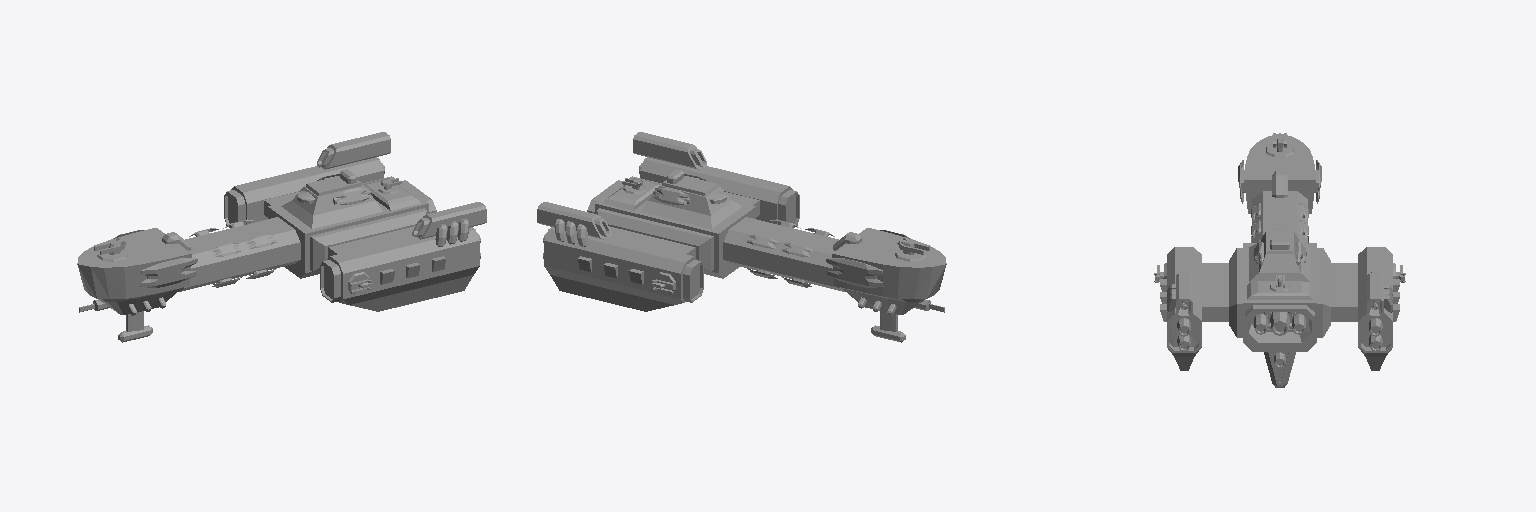
The model's file is EOC_odysseus.obj.
The picture shows the model from 3 angles: view 1: azimuth 30°, elevation 25°; view 2: azimuth 150°, elevation 25°; view 3: azimuth 270°, elevation 25°; orthographic projection.
Parts seen in each view (by area): view 1: EOC_Odysseus.002_Cube.000; view 2: EOC_Odysseus.002_Cube.000; view 3: EOC_Odysseus.002_Cube.000.
Boxes of the visible parts, x1=… form: EOC_Odysseus.002_Cube.000: x1=77, y1=132, x2=486, y2=342; EOC_Odysseus.002_Cube.000: x1=537, y1=132, x2=946, y2=342; EOC_Odysseus.002_Cube.000: x1=1154, y1=133, x2=1405, y2=387.
Bounding box in the file's own units: 23.91 × 7.73 × 14.55.